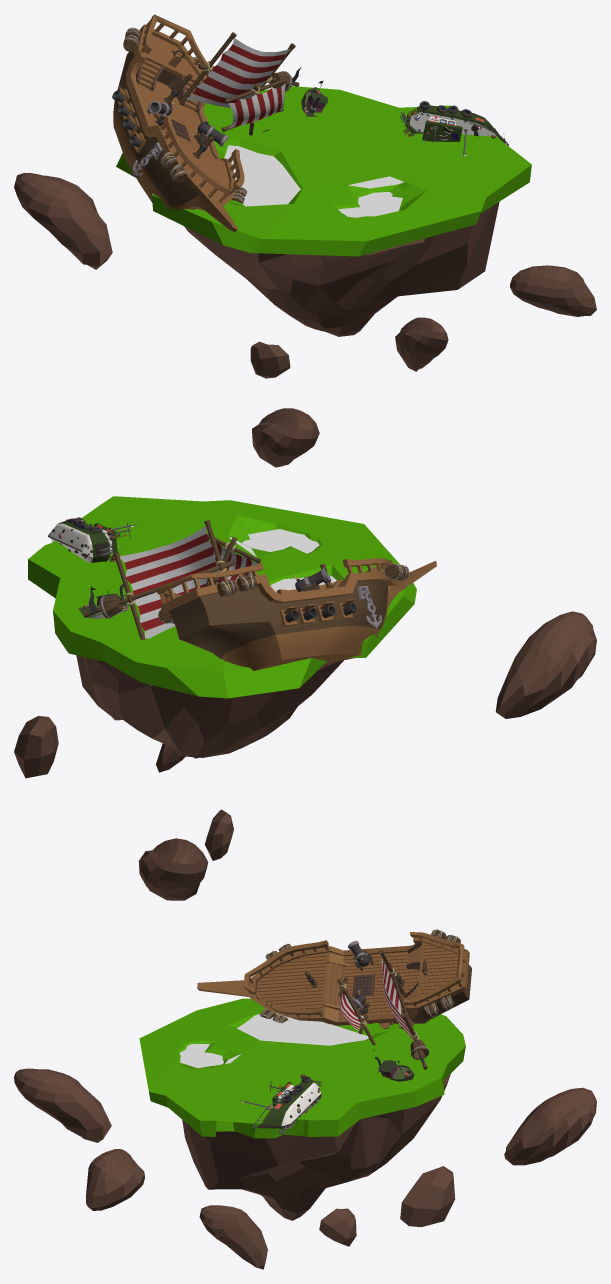
File: skull_island.glb
The picture shows the model from 3 angles, top to bottom: view 1: azimuth 30°, elevation 25°; view 2: azimuth 150°, elevation 25°; view 3: azimuth 270°, elevation 25°; orthographic projection. The views are drawn at different scales.
Visible parts, largest first — view 1: зел, камень, корабль, мачта 2, Plane, мачта 1, polySurface202_Mesh.003, polySurface208_Mesh.017, pCube126_Mesh.674; view 2: зел, камень, корабль, мачта 2, Plane, polySurface208_Mesh.017, мачта 1; view 3: камень, зел, корабль, Plane, мачта 2, polySurface208_Mesh.017, мачта 1.
Boxes of the visible parts, box(x1,y1,x2,y2) form: зел: box(116, 86, 531, 256); камень: box(14, 172, 596, 467); корабль: box(112, 14, 247, 231); мачта 2: box(180, 32, 301, 107); Plane: box(224, 145, 403, 217); мачта 1: box(221, 78, 286, 135); polySurface202_Mesh.003: box(409, 112, 498, 137); polySurface208_Mesh.017: box(405, 104, 503, 141); pCube126_Mesh.674: box(422, 120, 462, 141); зел: box(28, 496, 416, 698); камень: box(14, 611, 596, 900); корабль: box(156, 558, 436, 670); мачта 2: box(83, 520, 234, 639); Plane: box(229, 529, 336, 592); polySurface208_Mesh.017: box(49, 518, 110, 562); мачта 1: box(207, 534, 260, 581); камень: box(14, 1068, 596, 1269); зел: box(139, 998, 465, 1138); корабль: box(197, 929, 471, 1028); Plane: box(179, 1013, 368, 1068); мачта 2: box(379, 950, 429, 1069); polySurface208_Mesh.017: box(261, 1080, 320, 1129); мачта 1: box(337, 977, 375, 1051).
Size of the model in its own units: 84.43 by 73.17 by 133.
Materials: 25 (6 with a texture image).
